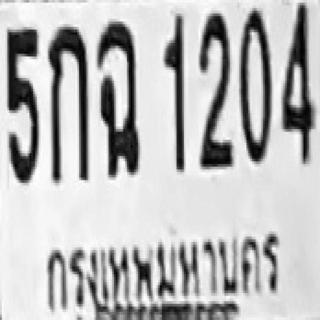A01: (47, 26, 88, 182)
A09: (96, 19, 138, 175)
N00: (238, 7, 271, 163)
N01: (162, 13, 184, 148)
N02: (198, 21, 233, 167), (198, 12, 231, 160)
N04: (280, 0, 314, 164)
N05: (6, 26, 38, 182)
P04: (40, 227, 282, 308)
